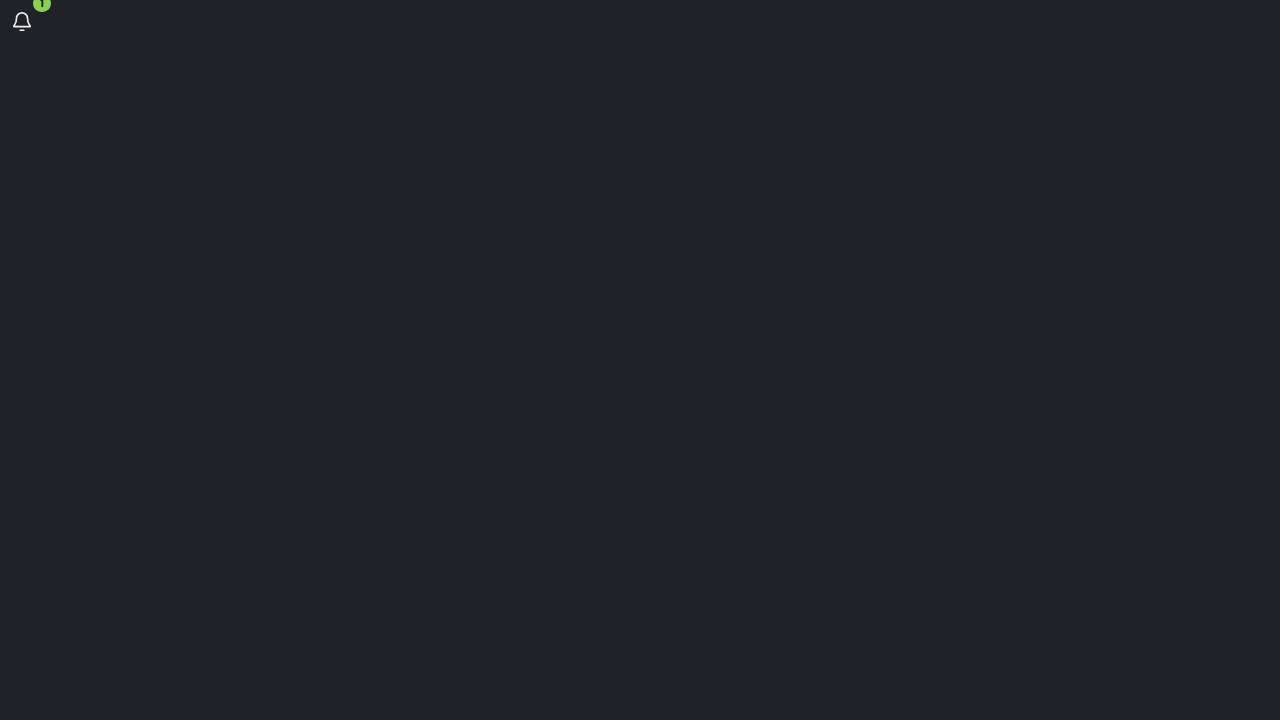
Test: shows the notification list and marks it all as read
This screenshot has width=1280, height=720.
Later steps or results of the test are not shown.
Click the button named "Notifications, 1 unread" at [22, 22], box [0, 0, 44, 44]
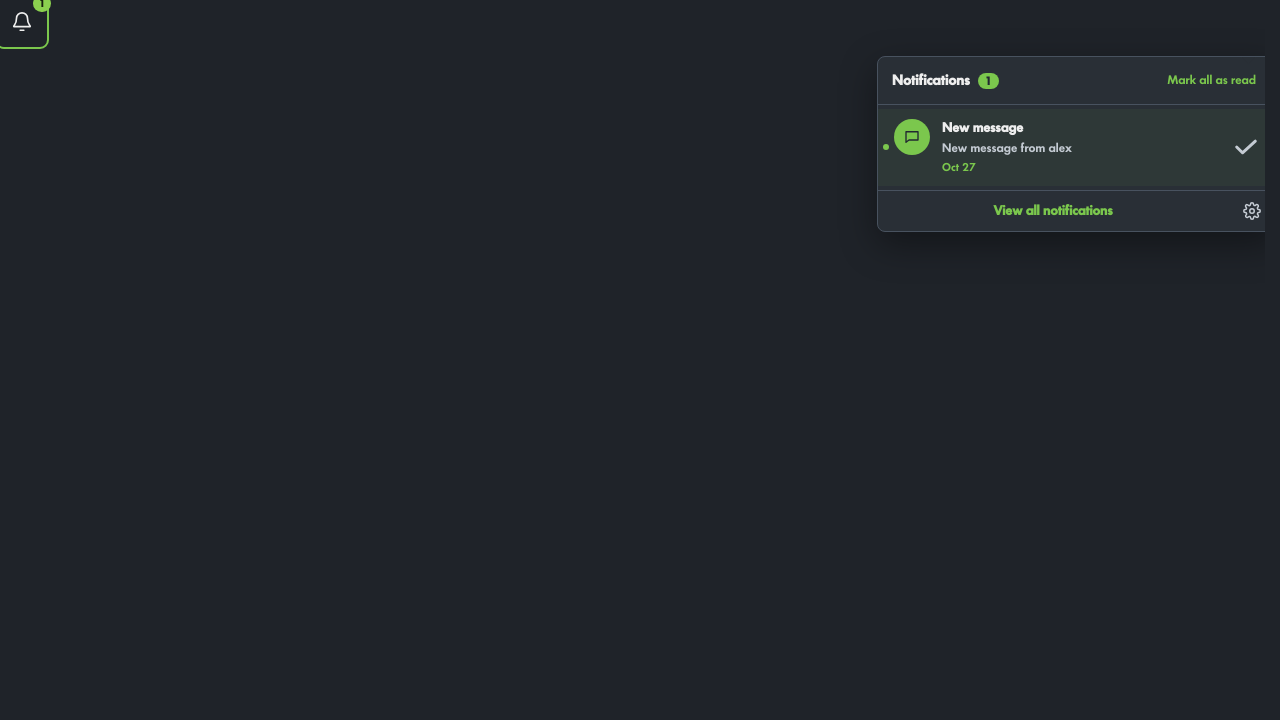
Expected: the dialog "Notifications" shows "New message from alex", [878, 109, 1224, 186]
